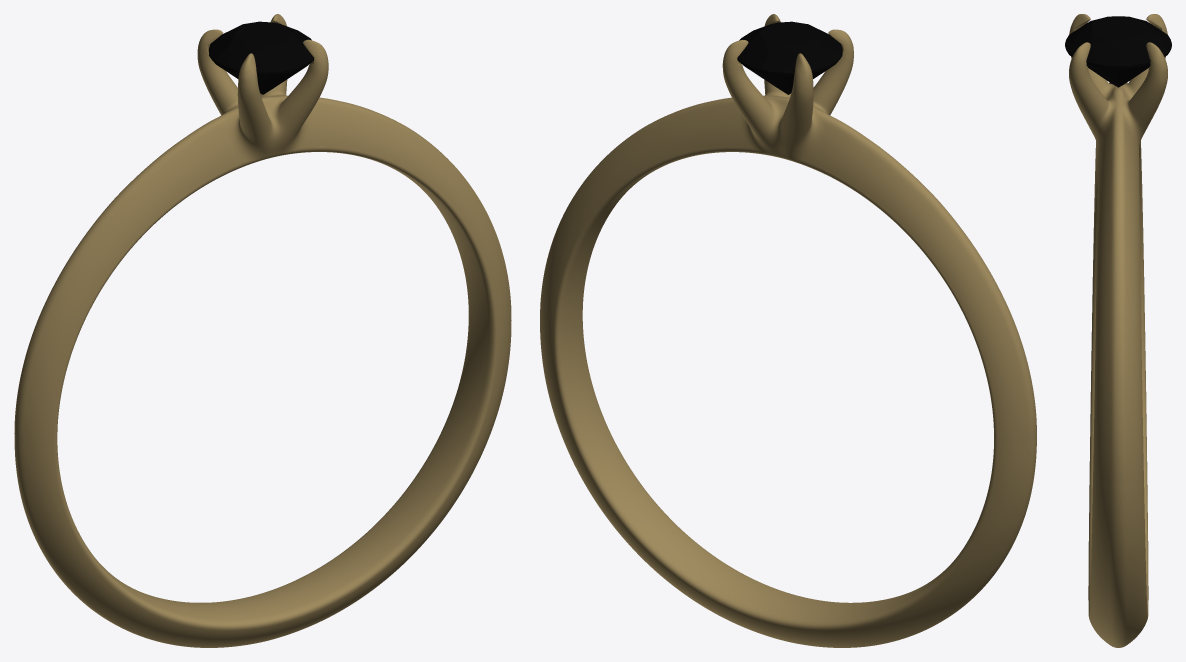
Rendered from pendant.glb.
The picture shows the model from 3 angles, left to right: view 1: azimuth 30°, elevation 25°; view 2: azimuth 150°, elevation 25°; view 3: azimuth 270°, elevation 25°; orthographic projection. The views are drawn at different scales.
Parts seen in each view (by area): view 1: Object_3, Object_5, Object_4, Object_6, Object_2, Object_7; view 2: Object_4, Object_6, Object_3, Object_5, Object_2, Object_7; view 3: Object_5, Object_6, Object_3, Object_4, Object_2, Object_7.
Boxes of the visible parts, box(x1,y1,x2,y2) form: Object_3: box(14, 16, 505, 643); Object_5: box(14, 14, 511, 647); Object_4: box(14, 14, 510, 645); Object_6: box(14, 15, 511, 647); Object_2: box(208, 21, 313, 94); Object_7: box(16, 31, 509, 645); Object_4: box(544, 40, 1034, 632); Object_6: box(540, 14, 1036, 647); Object_3: box(549, 14, 1035, 629); Object_5: box(540, 15, 1036, 647); Object_2: box(737, 21, 842, 94); Object_7: box(543, 31, 1034, 646); Object_5: box(1069, 14, 1167, 647); Object_6: box(1069, 14, 1167, 647); Object_3: box(1069, 14, 1163, 646); Object_4: box(1069, 14, 1167, 646); Object_2: box(1065, 16, 1171, 87); Object_7: box(1070, 18, 1163, 645).
Bounding box in the file's own units: 20.93 × 24.57 × 4.
2 materials, 1 textured.
